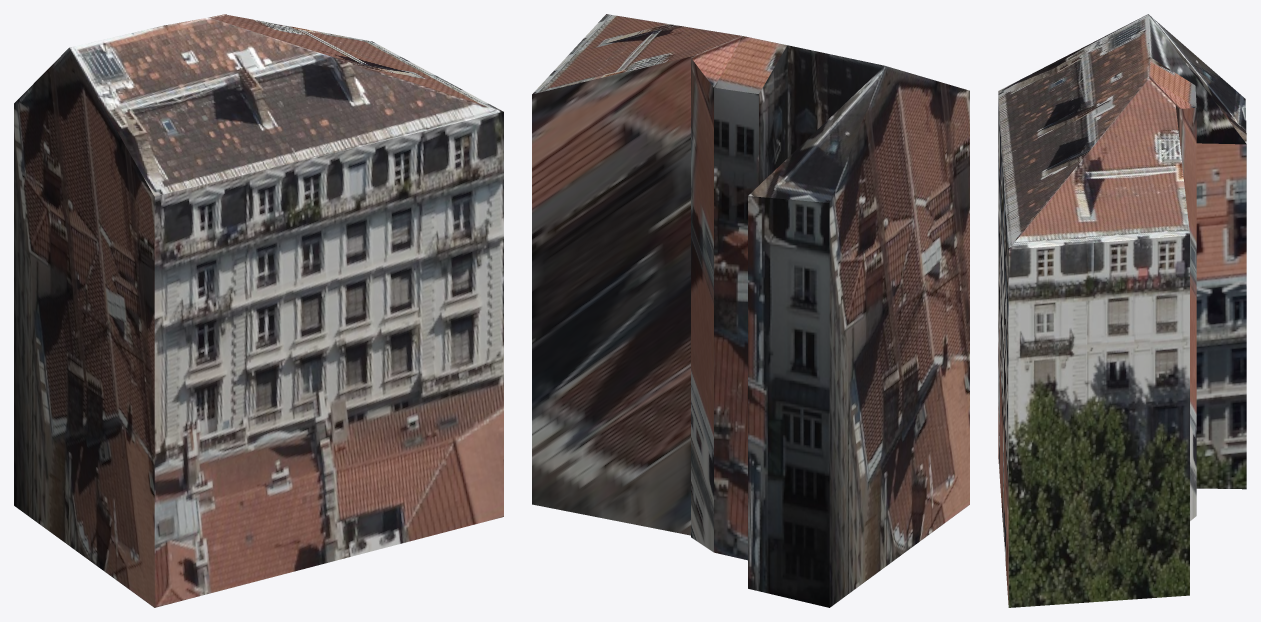
3 views of the same model, side by side, from view 1: azimuth 30°, elevation 25°; view 2: azimuth 150°, elevation 25°; view 3: azimuth 270°, elevation 25° (orthographic). The views are drawn at different scales.
Visible parts, largest first — view 1: Z_UP; view 2: Z_UP; view 3: Z_UP.
Part boxes in pixels (x1,y1,x2,y2): Z_UP: (14, 14, 503, 607); Z_UP: (532, 14, 969, 607); Z_UP: (998, 14, 1246, 607).
Bounding box in the file's own units: 21.41 × 28.65 × 14.65.
2 materials, 1 textured.
